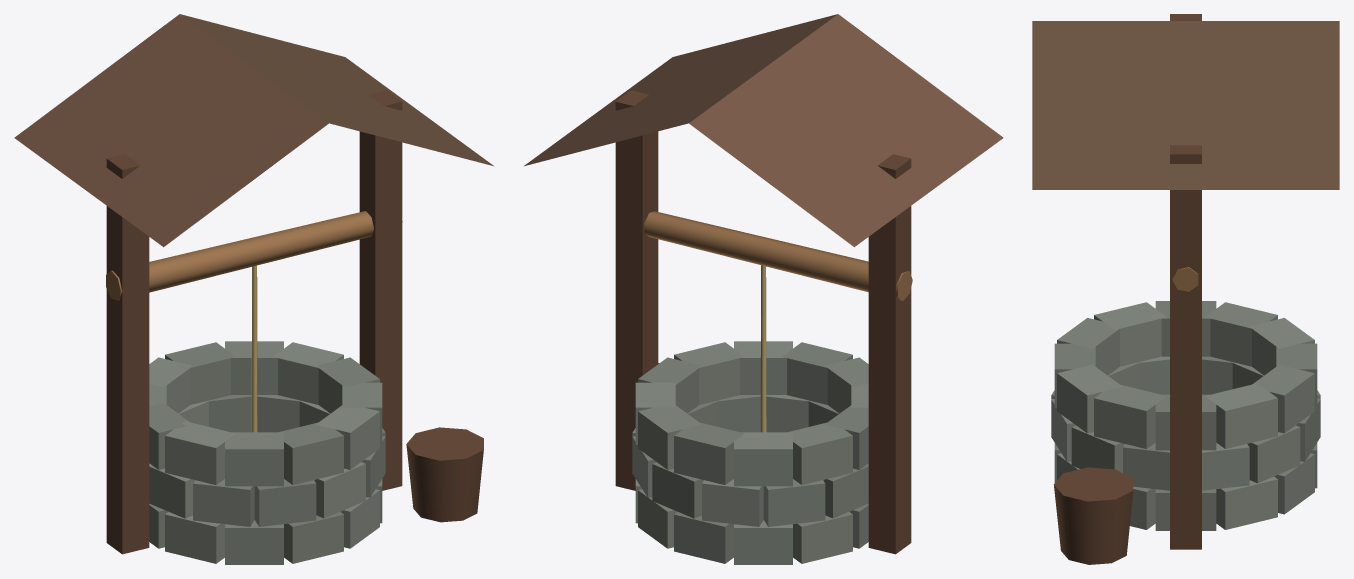
The model's file is Village_Well.glb.
3 renders of one model, left to right at view 1: azimuth 30°, elevation 25°; view 2: azimuth 150°, elevation 25°; view 3: azimuth 270°, elevation 25°, orthographic. The views are drawn at different scales.
Visible parts, largest first — view 1: _MeshInstance3D_4928, _MeshInstance3D_4924, _MeshInstance3D_4925, _MeshInstance3D_4929, _MeshInstance3D_4926, _MeshInstance3D_4930, _MeshInstance3D_4916, _MeshInstance3D_4915, _MeshInstance3D_4914, _MeshInstance3D_4920, _MeshInstance3D_4922, _MeshInstance3D_4902 (+18 smaller); view 2: _MeshInstance3D_4928, _MeshInstance3D_4924, _MeshInstance3D_4925, _MeshInstance3D_4929, _MeshInstance3D_4926, _MeshInstance3D_4920, _MeshInstance3D_4919, _MeshInstance3D_4918, _MeshInstance3D_4912, _MeshInstance3D_4914, _MeshInstance3D_4906, _MeshInstance3D_4907 (+17 smaller); view 3: _MeshInstance3D_4929, _MeshInstance3D_4925, _MeshInstance3D_4930, _MeshInstance3D_4922, _MeshInstance3D_4912, _MeshInstance3D_4916, _MeshInstance3D_4918, _MeshInstance3D_4898, _MeshInstance3D_4913, _MeshInstance3D_4921, _MeshInstance3D_4909, _MeshInstance3D_4910 (+18 smaller).
Part boxes in pixels (x1=…): _MeshInstance3D_4928: x1=14, y1=14, x2=328, y2=247; _MeshInstance3D_4924: x1=106, y1=154, x2=149, y2=554; _MeshInstance3D_4925: x1=359, y1=90, x2=402, y2=490; _MeshInstance3D_4929: x1=180, y1=14, x2=493, y2=166; _MeshInstance3D_4926: x1=106, y1=211, x2=402, y2=300; _MeshInstance3D_4930: x1=406, y1=427, x2=483, y2=522; _MeshInstance3D_4916: x1=165, y1=421, x2=235, y2=484; _MeshInstance3D_4915: x1=225, y1=432, x2=283, y2=486; _MeshInstance3D_4914: x1=279, y1=422, x2=343, y2=484; _MeshInstance3D_4920: x1=165, y1=342, x2=235, y2=404; _MeshInstance3D_4922: x1=273, y1=342, x2=343, y2=404; _MeshInstance3D_4902: x1=254, y1=479, x2=316, y2=526; _MeshInstance3D_4928: x1=689, y1=14, x2=1003, y2=247; _MeshInstance3D_4924: x1=868, y1=154, x2=911, y2=554; _MeshInstance3D_4925: x1=615, y1=90, x2=658, y2=490; _MeshInstance3D_4929: x1=524, y1=14, x2=837, y2=166; _MeshInstance3D_4926: x1=644, y1=211, x2=912, y2=300; _MeshInstance3D_4920: x1=674, y1=422, x2=744, y2=484; _MeshInstance3D_4919: x1=734, y1=432, x2=792, y2=486; _MeshInstance3D_4918: x1=788, y1=422, x2=852, y2=484; _MeshInstance3D_4912: x1=674, y1=342, x2=744, y2=404; _MeshInstance3D_4914: x1=782, y1=342, x2=852, y2=404; _MeshInstance3D_4906: x1=763, y1=479, x2=825, y2=526; _MeshInstance3D_4907: x1=702, y1=479, x2=763, y2=526; _MeshInstance3D_4929: x1=1032, y1=21, x2=1339, y2=189; _MeshInstance3D_4925: x1=1170, y1=145, x2=1201, y2=549; _MeshInstance3D_4930: x1=1053, y1=467, x2=1133, y2=564; _MeshInstance3D_4922: x1=1205, y1=383, x2=1277, y2=448; _MeshInstance3D_4912: x1=1094, y1=384, x2=1166, y2=448; _MeshInstance3D_4916: x1=1094, y1=302, x2=1166, y2=366; _MeshInstance3D_4918: x1=1205, y1=302, x2=1277, y2=366; _MeshInstance3D_4898: x1=1216, y1=476, x2=1277, y2=529; _MeshInstance3D_4913: x1=1057, y1=364, x2=1122, y2=433; _MeshInstance3D_4921: x1=1252, y1=364, x2=1314, y2=433; _MeshInstance3D_4909: x1=1247, y1=425, x2=1300, y2=483; _MeshInstance3D_4910: x1=1202, y1=443, x2=1249, y2=490.
Bounding box in the file's own units: 2.31 × 2.83 × 1.72.
